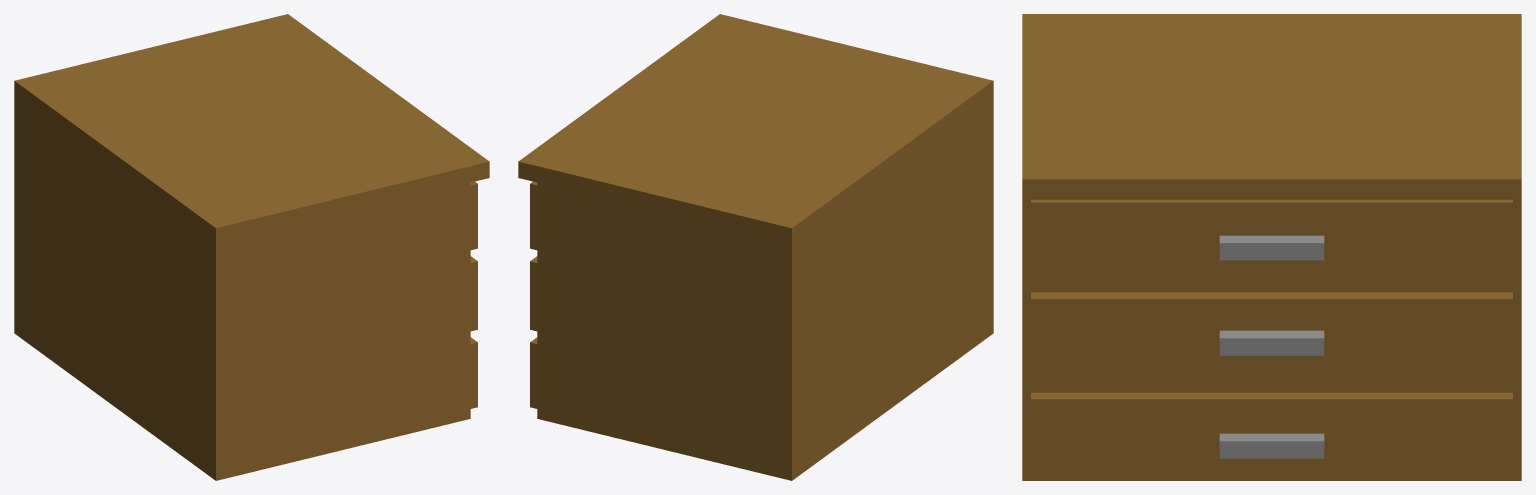
Rendered from Drawers.FBX.
The picture shows the model from 3 angles, left to right: view 1: azimuth 30°, elevation 25°; view 2: azimuth 150°, elevation 25°; view 3: azimuth 270°, elevation 25°; orthographic projection. The views are drawn at different scales.
Parts seen in each view (by area): view 1: Box001; view 2: Box001; view 3: Box001.
Boxes of the visible parts, bbox=[...] form: Box001: bbox=[14, 14, 489, 480]; Box001: bbox=[518, 14, 993, 480]; Box001: bbox=[1022, 14, 1521, 480].
Size of the model in its own units: 55.58 by 48.28 by 69.82.
